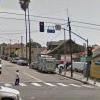Crosswalk: (23, 77, 94, 91)
